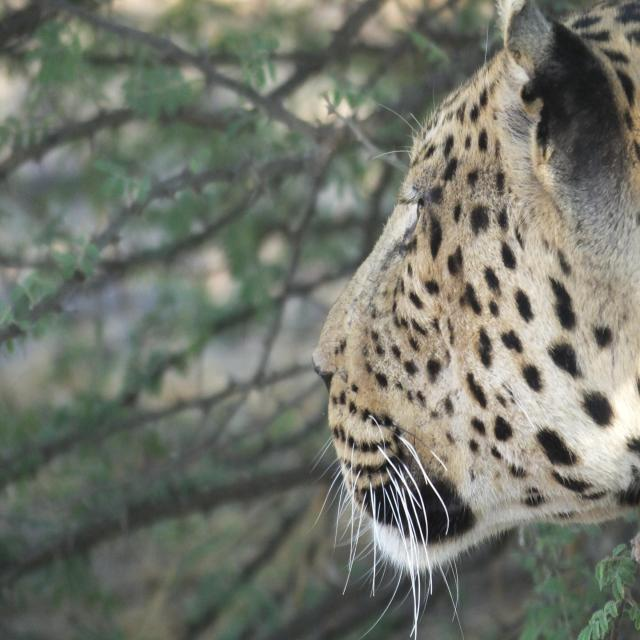Leopard: (260, 11, 638, 640)
